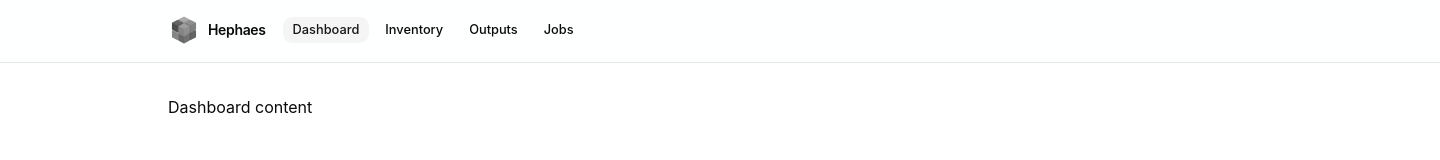
Test: AppShell › navigates to another primary route with a single click
The image size is (1440, 160).
expect the text "Dashboard content" is shown: met, box top-left (168, 97), bottom-right (312, 117)
Click the link "Inventory" at (414, 29), box top-left (385, 22), bottom-right (443, 37)
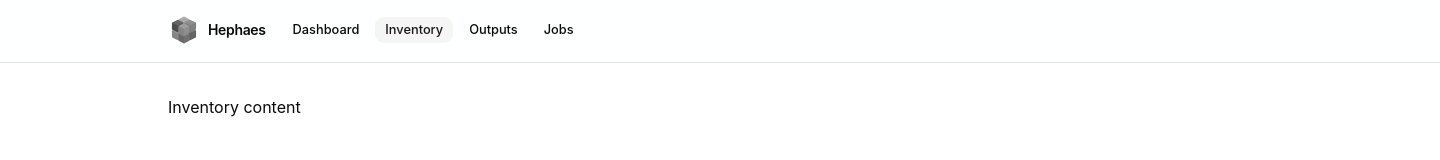
expect the link "Inventory" is shown: met, box top-left (374, 16), bottom-right (454, 44)
expect the text "Inventory content" is shown: met, box top-left (168, 97), bottom-right (301, 117)
